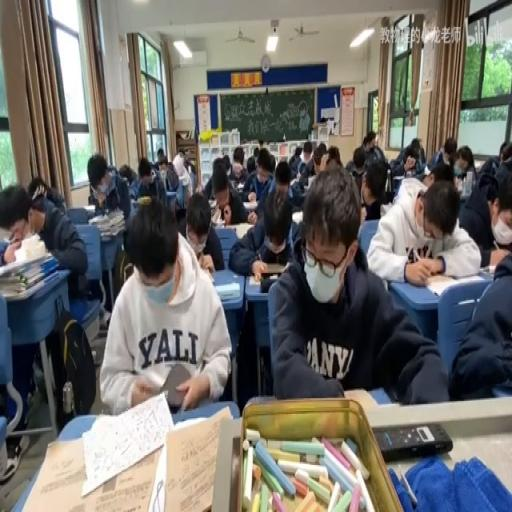calculator: (0, 244, 48, 278), (422, 272, 462, 296), (221, 219, 252, 236), (214, 282, 240, 300), (210, 205, 224, 223), (479, 263, 498, 276), (291, 209, 303, 225), (242, 199, 258, 209), (392, 174, 402, 190), (290, 175, 304, 186), (130, 196, 142, 208), (176, 171, 189, 182), (82, 202, 95, 212), (306, 175, 315, 188), (474, 158, 484, 169), (422, 163, 430, 175), (207, 198, 216, 206), (237, 180, 244, 190)
paper: (98, 194, 229, 416), (1, 179, 88, 465), (366, 170, 480, 282), (451, 250, 512, 401), (227, 183, 298, 276), (86, 154, 132, 228), (485, 174, 512, 264), (358, 156, 390, 220), (163, 154, 189, 226), (130, 156, 165, 206), (389, 135, 424, 178), (476, 141, 510, 185), (0, 182, 29, 232), (29, 176, 66, 214), (450, 145, 477, 189), (287, 142, 310, 179), (228, 144, 246, 182), (272, 158, 291, 192), (256, 148, 275, 176), (428, 161, 453, 182), (323, 144, 342, 168), (118, 164, 136, 186), (313, 145, 326, 171), (352, 150, 365, 174), (443, 138, 456, 161), (362, 132, 375, 154), (222, 152, 232, 172), (371, 145, 383, 161), (155, 148, 165, 162), (252, 146, 259, 164), (405, 149, 414, 162), (187, 161, 195, 175), (246, 162, 254, 175), (178, 150, 185, 164), (158, 161, 166, 169)
person: (373, 422, 452, 461), (256, 276, 282, 293), (258, 260, 287, 273)
